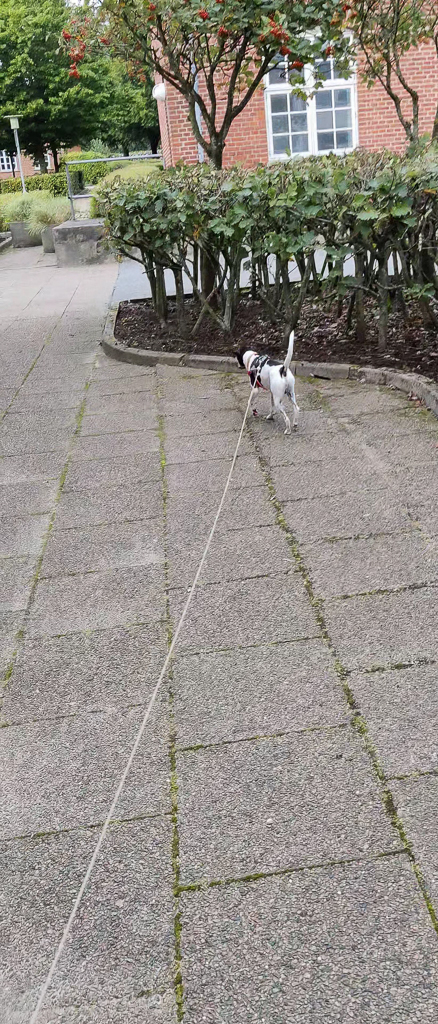Dog: (229, 324, 311, 437)
